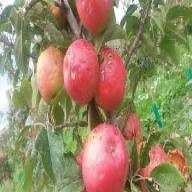apple: (79, 123, 128, 191), (62, 38, 97, 103), (92, 46, 126, 109), (33, 48, 64, 102)
